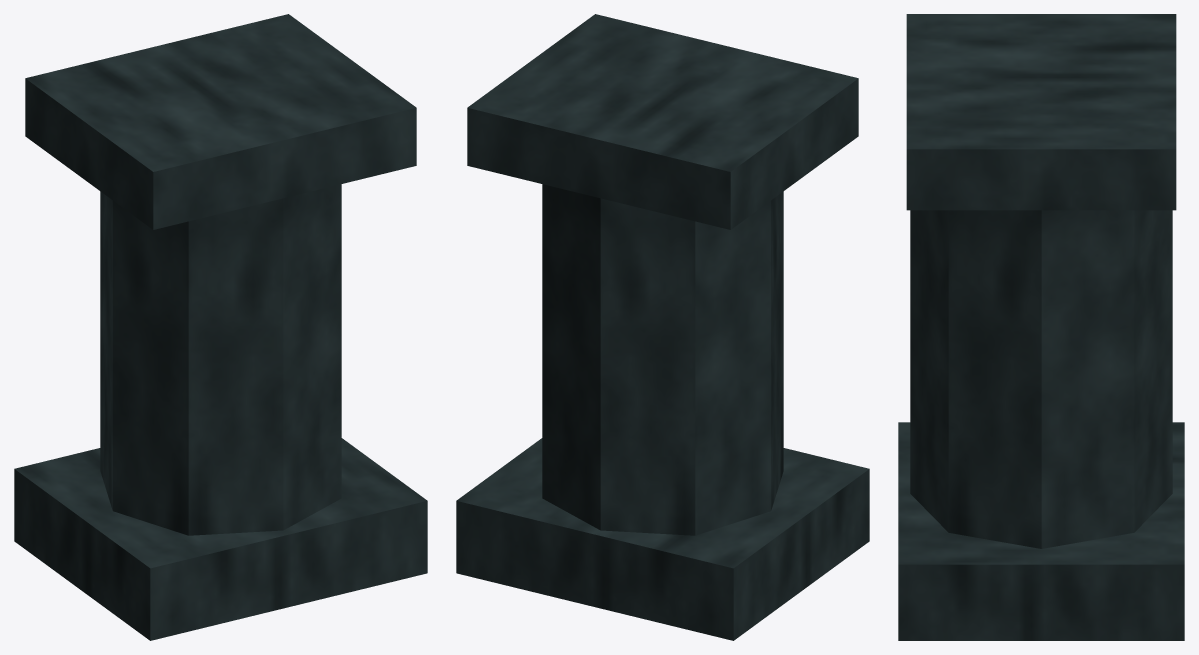
The model's file is Lamp_Utility.glb.
The picture shows the model from 3 angles, left to right: view 1: azimuth 30°, elevation 25°; view 2: azimuth 150°, elevation 25°; view 3: azimuth 270°, elevation 25°; orthographic projection. The views are drawn at different scales.
Visible parts, largest first — view 1: Lamp_Utility; view 2: Lamp_Utility; view 3: Lamp_Utility.
Part boxes in pixels (x1,y1,x2,y2): Lamp_Utility: (14, 14, 427, 640); Lamp_Utility: (456, 14, 869, 640); Lamp_Utility: (898, 14, 1184, 640).
Bounding box in the file's own units: 0.2 × 0.32 × 0.17.
2 materials, 1 textured.
